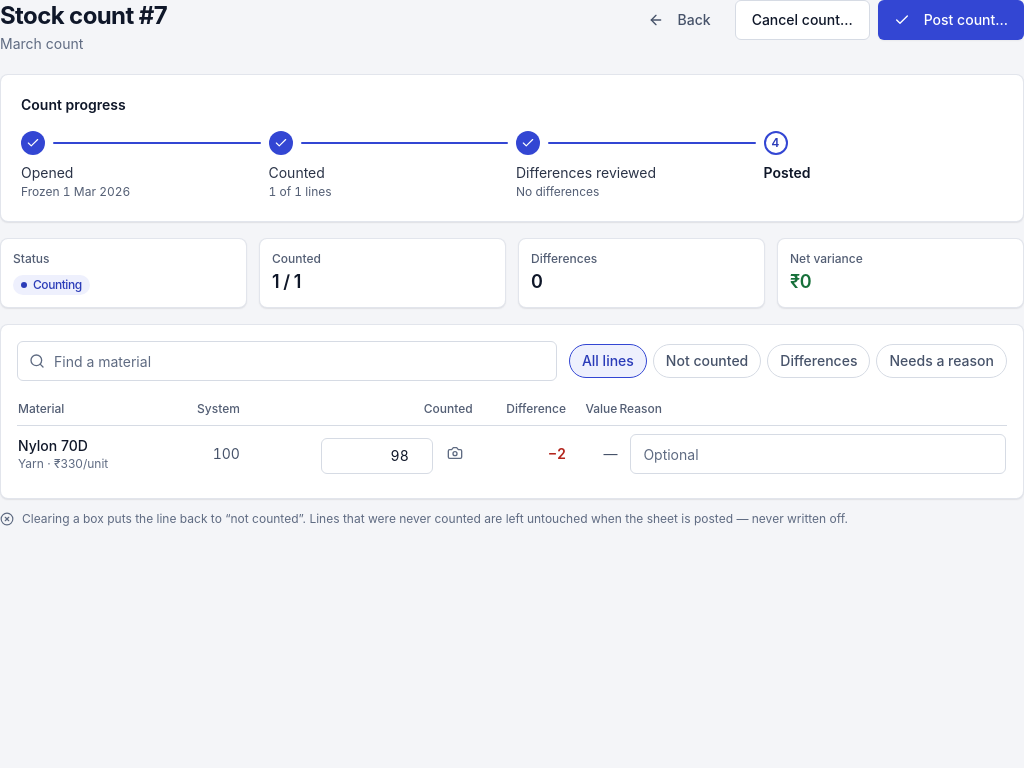
when the sheet changed underneath › repeats the server's objection word for word
The image size is (1024, 768).
Click the button "Post count…" at (951, 20), box [878,0,1023,40]
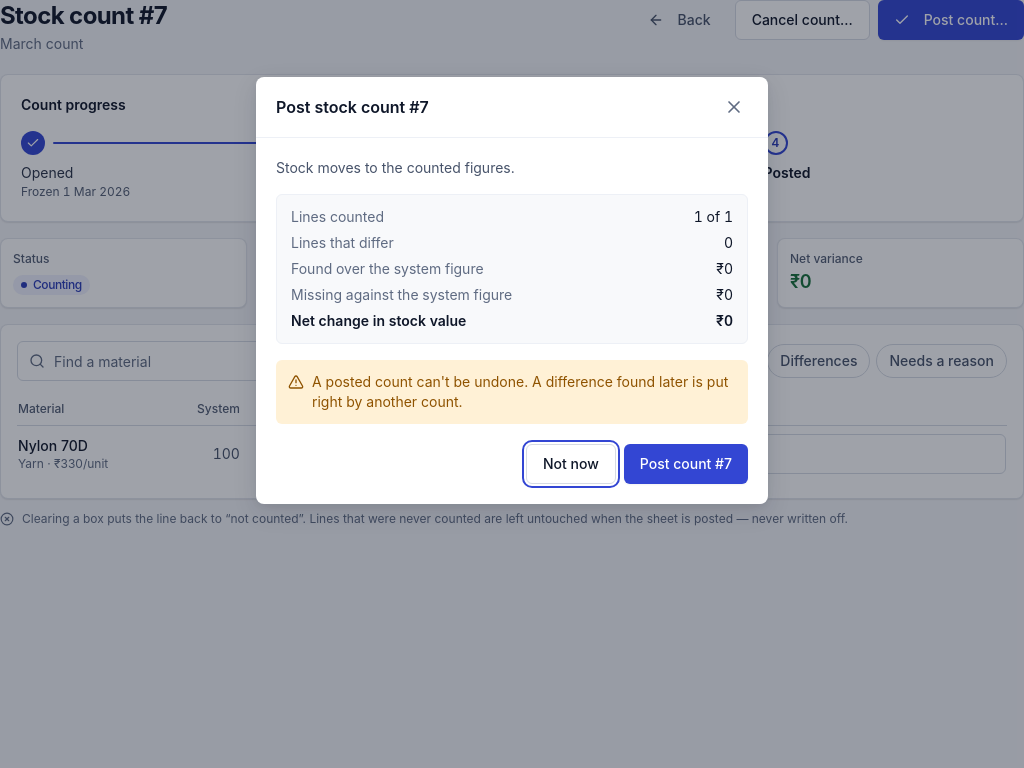
Click the button "Post count #7" at (686, 464), box [624,444,748,484]
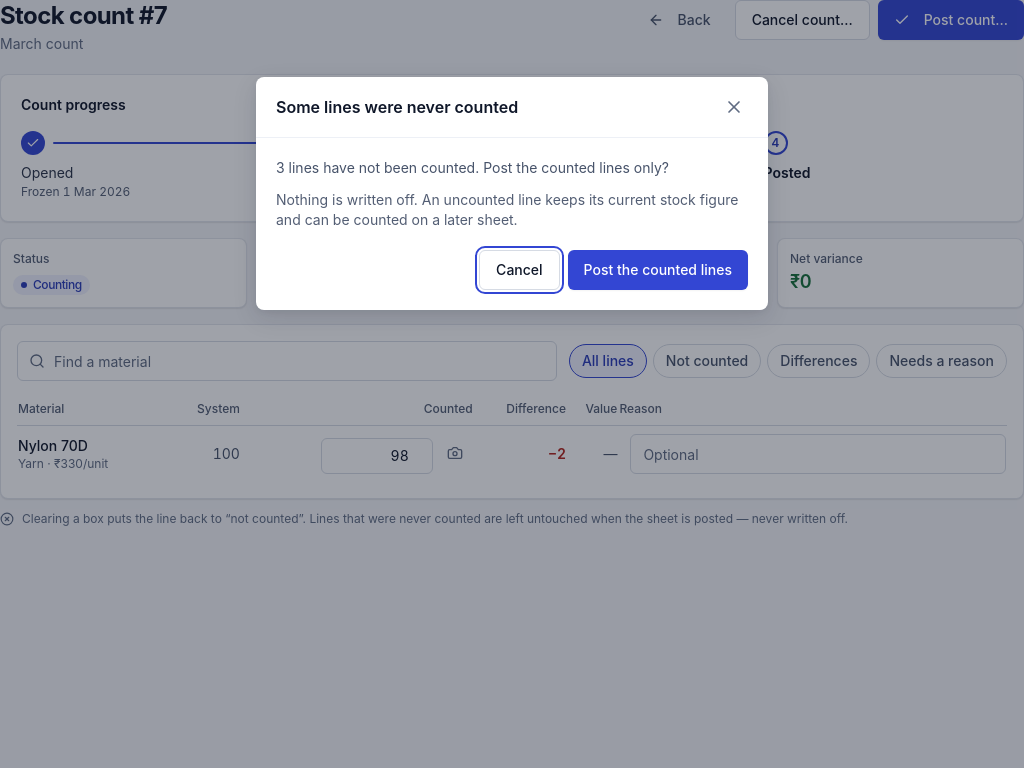
Now the text "3 lines have not been counted. Post the counted lines only?" is shown, box [276,159,669,176]
